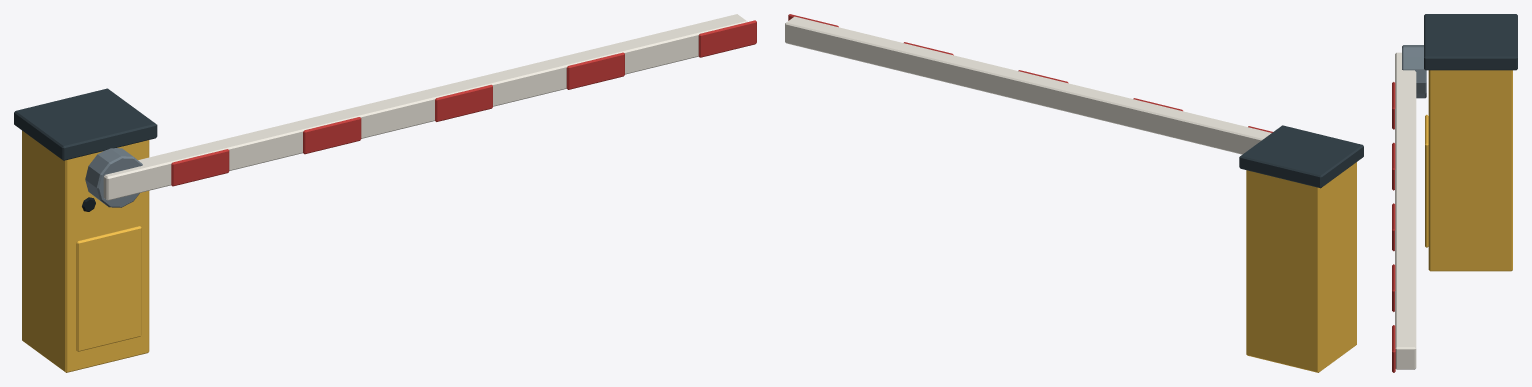
Rendered from b02_parking_gate_arm.glb.
The picture shows the model from 3 angles, left to right: view 1: azimuth 30°, elevation 25°; view 2: azimuth 150°, elevation 25°; view 3: azimuth 270°, elevation 25°; orthographic projection. The views are drawn at different scales.
Parts seen in each view (by area): view 1: b02_parking_gate_arm; view 2: b02_parking_gate_arm; view 3: b02_parking_gate_arm.
Part boxes in pixels (left/top/right/bottom): b02_parking_gate_arm: left=14, top=14, right=756, bottom=372; b02_parking_gate_arm: left=785, top=14, right=1363, bottom=372; b02_parking_gate_arm: left=1392, top=14, right=1517, bottom=372.
Size of the model in its own units: 3.86 by 1.25 by 0.656.
